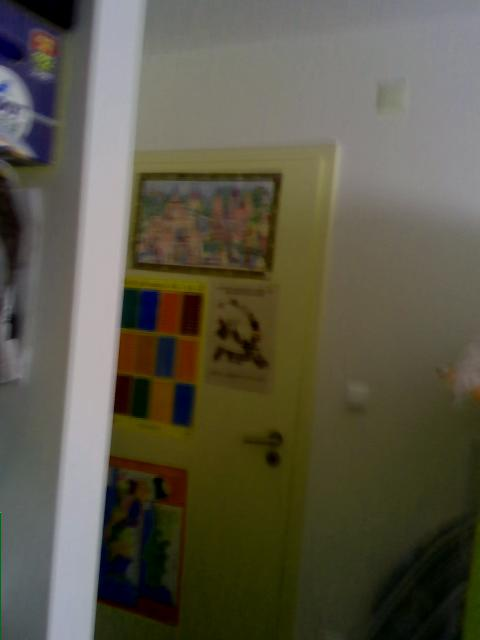closed_door: (90, 141, 340, 639)
